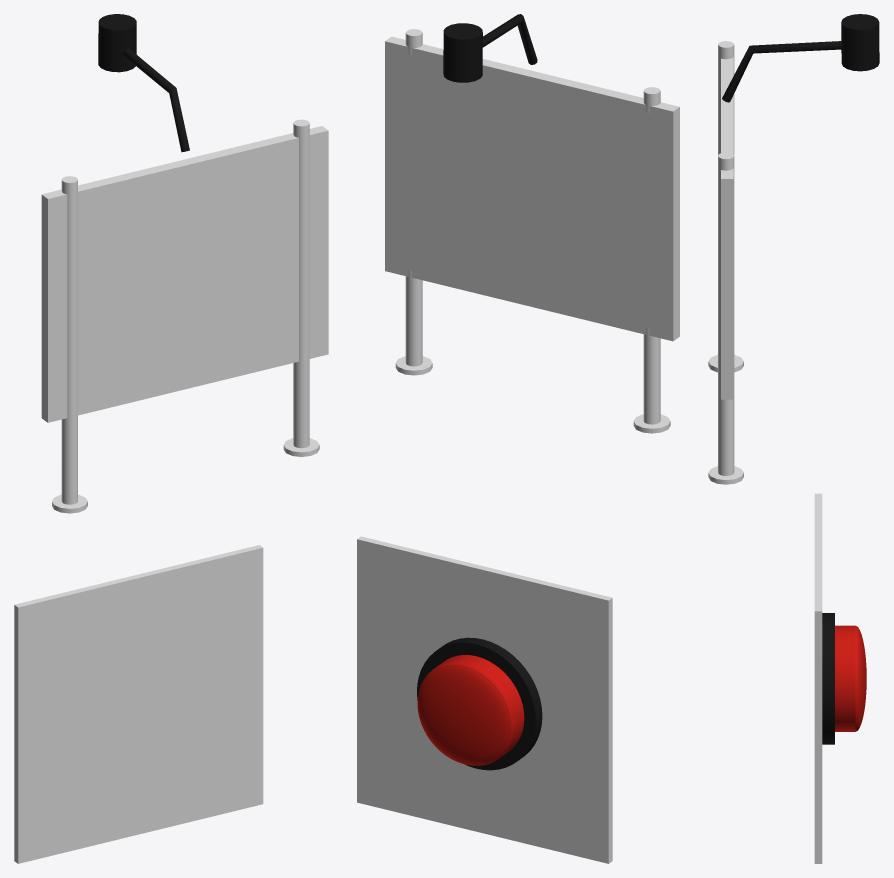
The model's file is pulsante_b.glb.
3 views of the same model, side by side, from view 1: azimuth 30°, elevation 25°; view 2: azimuth 150°, elevation 25°; view 3: azimuth 270°, elevation 25° (orthographic). The views are drawn at different scales.
Parts seen in each view (by area): view 1: prop_cartello_b, prop_pulsante_b; view 2: prop_cartello_b, prop_pulsante_b; view 3: prop_cartello_b, prop_pulsante_b.
Part boxes in pixels (x1,y1,x2,y2): prop_cartello_b: (41,14,328,513); prop_pulsante_b: (14,545,263,863); prop_cartello_b: (385,14,679,433); prop_pulsante_b: (357,536,612,863); prop_cartello_b: (708,14,879,484); prop_pulsante_b: (814,493,866,863).
Size of what is drawn, in the model's own units: 1.26 by 3.41 by 0.6756.
